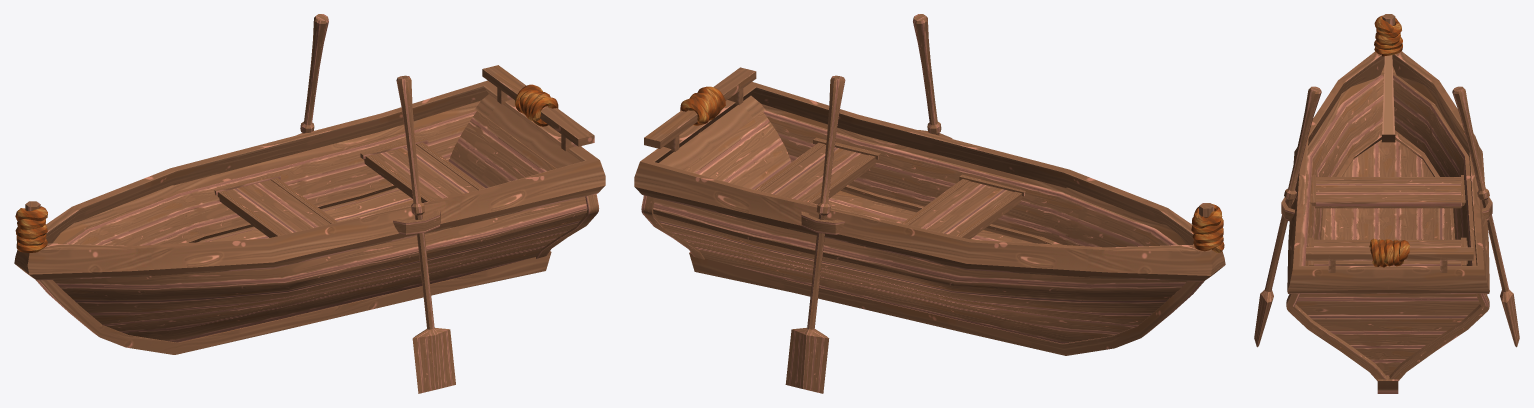
Rendered from SM_Ship_Boat.fbx.
3 views of the same model, side by side, from view 1: azimuth 30°, elevation 25°; view 2: azimuth 150°, elevation 25°; view 3: azimuth 270°, elevation 25° (orthographic). The views are drawn at different scales.
Visible parts, largest first — view 1: SM_Ship_Boat_LOD0; view 2: SM_Ship_Boat_LOD0; view 3: SM_Ship_Boat_LOD0.
Boxes of the visible parts, x1,y1,x2,y2 form: SM_Ship_Boat_LOD0: [14, 14, 605, 393]; SM_Ship_Boat_LOD0: [634, 14, 1225, 393]; SM_Ship_Boat_LOD0: [1254, 14, 1519, 393].
Bounding box in the file's own units: 471 × 232 × 244.
3 materials, 3 textured.
